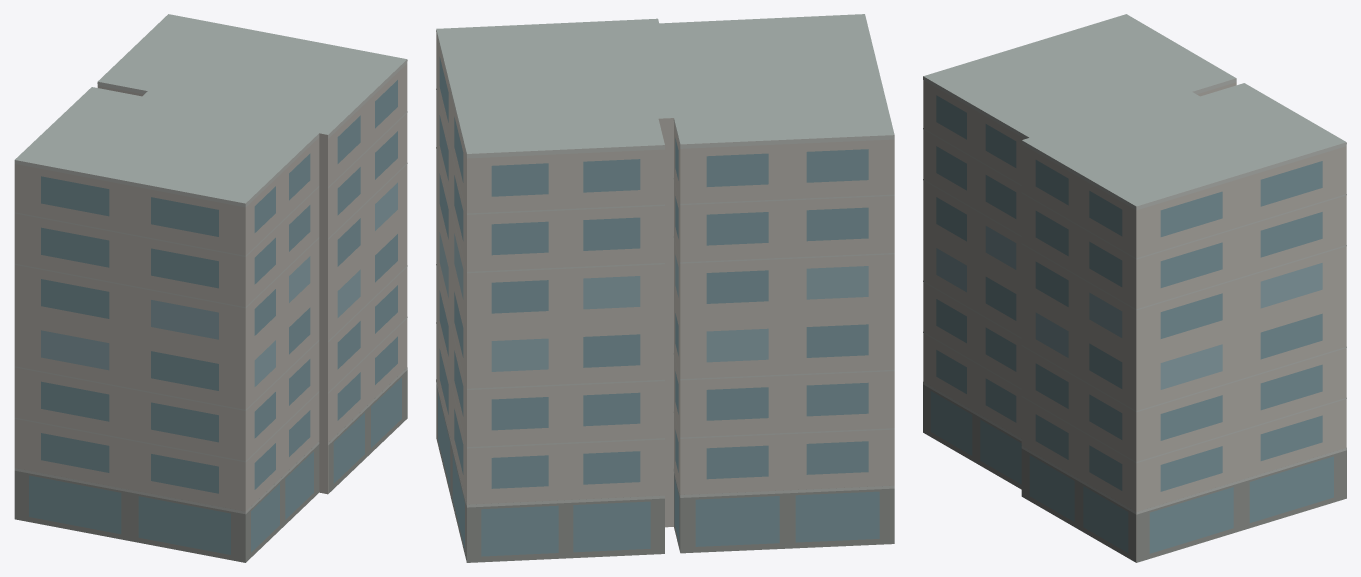
The model's file is survey-upis-32709373.glb.
The picture shows the model from 3 angles, left to right: view 1: azimuth 30°, elevation 25°; view 2: azimuth 150°, elevation 25°; view 3: azimuth 270°, elevation 25°; orthographic projection. The views are drawn at different scales.
Visible parts, largest first — view 1: survey-upis-32709373.tmp; view 2: survey-upis-32709373.tmp; view 3: survey-upis-32709373.tmp.
Boxes of the visible parts, x1,y1,x2,y2 form: survey-upis-32709373.tmp: (14, 14, 407, 562); survey-upis-32709373.tmp: (436, 14, 894, 562); survey-upis-32709373.tmp: (923, 14, 1346, 562).
Bounding box in the file's own units: 25.63 × 22.1 × 23.83.
